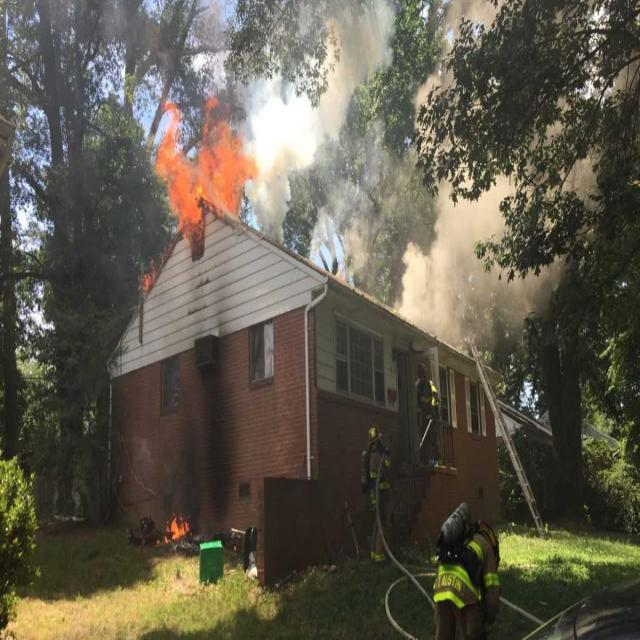fire: (164, 134, 238, 216)
smoke: (410, 250, 484, 334), (257, 100, 296, 233)
